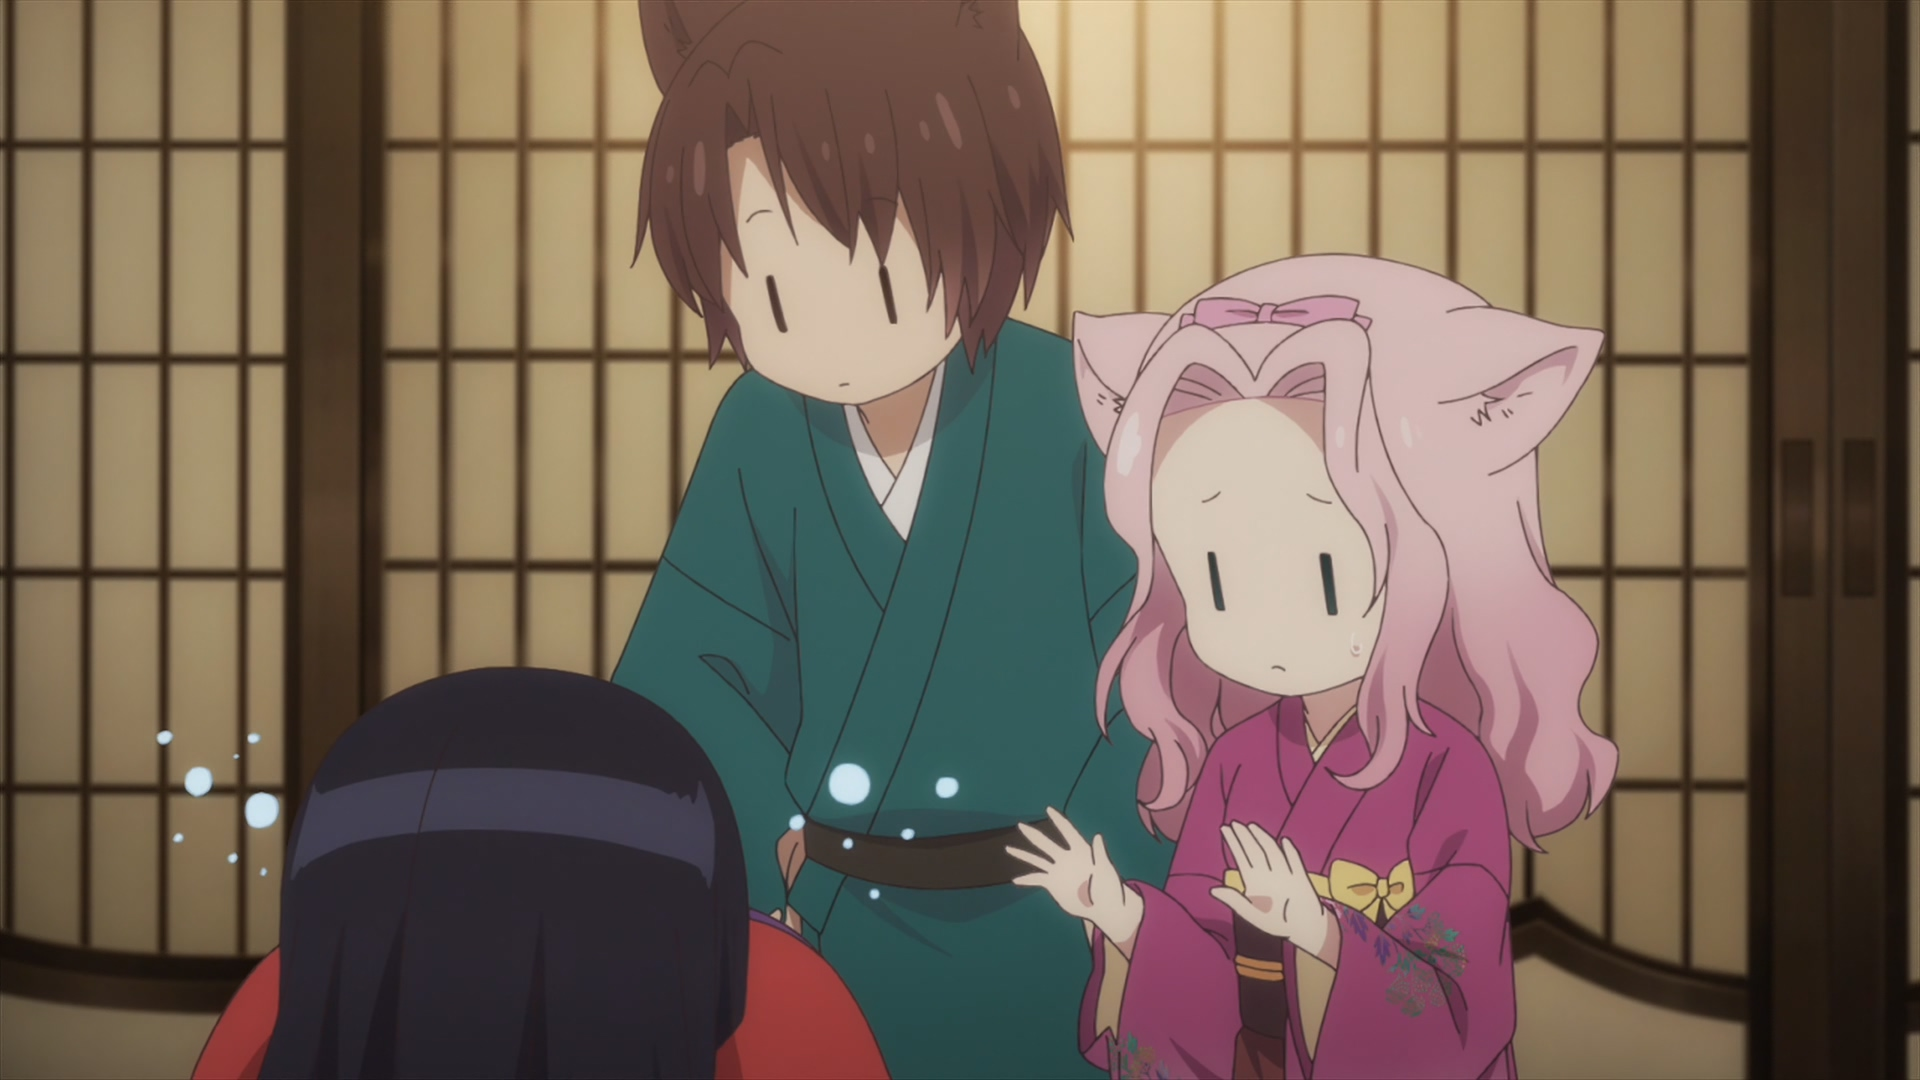其他: (194, 669, 890, 1080)
枣: (604, 1, 1178, 1080)
莲: (1004, 255, 1615, 1080)
